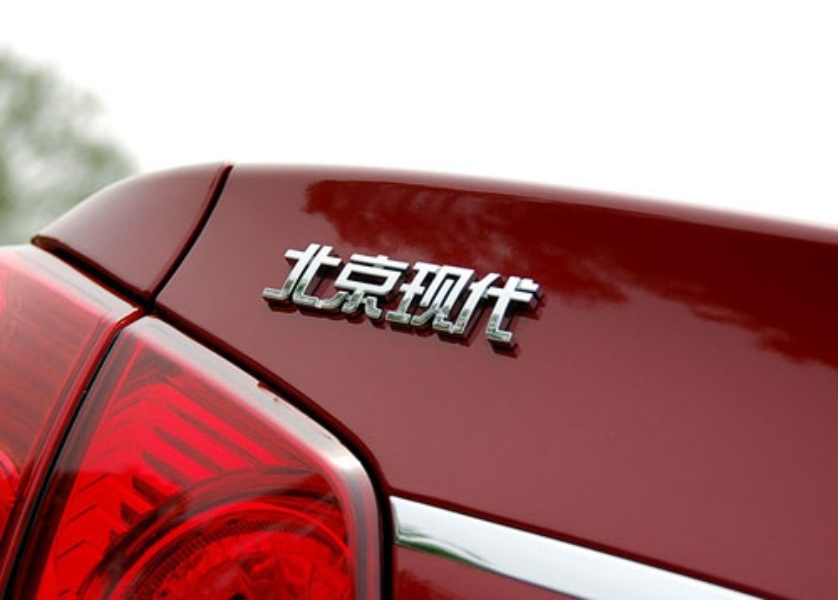text: (289, 237, 304, 356), (305, 237, 320, 356), (321, 237, 336, 356), (337, 237, 352, 356), (353, 237, 368, 356), (369, 237, 384, 356), (385, 237, 400, 356), (401, 237, 416, 356), (417, 237, 432, 356), (433, 237, 448, 356), (449, 237, 464, 356), (465, 237, 480, 356), (481, 237, 496, 356), (497, 237, 512, 356), (513, 237, 528, 356), (529, 237, 544, 356), (545, 237, 547, 356), (287, 237, 288, 356)
